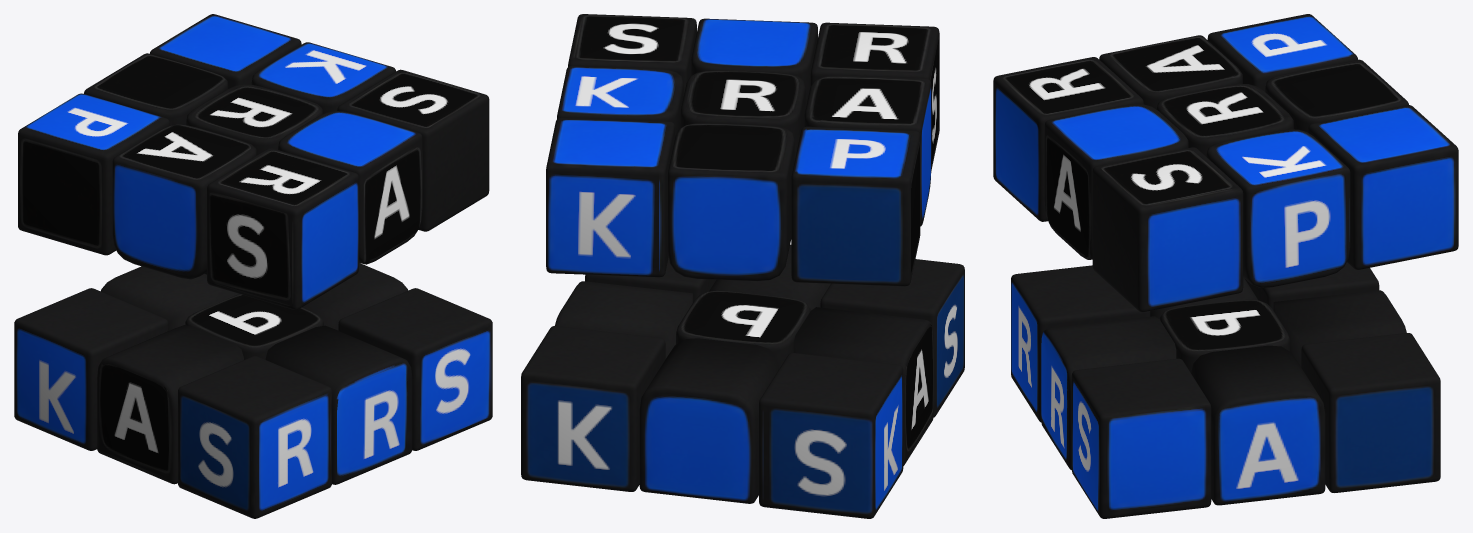
File: rubic_1.glb
The picture shows the model from 3 angles, left to right: view 1: azimuth 30°, elevation 25°; view 2: azimuth 150°, elevation 25°; view 3: azimuth 270°, elevation 25°; orthographic projection. The views are drawn at different scales.
Visible parts, largest first — view 1: Cuadrado_low004__0, Cuadrado_low007__0, Cuadrado_low012__0, Esquina_low015__0, Cuadrado_low011, Cuadrado_low006__0, Esquina_low016__0, Esquina_low008__0, Cuadrado_low008__0, Esquina_low007__0, Cuadrado_low010__0, Esquina_low018__0 (+5 smaller); view 2: Cuadrado_low011, Cuadrado_low012__0, Cuadrado_low009, Cuadrado_low010__0, Esquina_low018__0, Esquina_low019, Esquina_low016__0, Cuadrado_low004__0, Esquina_low015__0, Cuadrado_low007__0, Redondo_low003__0, Cuadrado_low008__0 (+6 smaller); view 3: Cuadrado_low008__0, Cuadrado_low006__0, Cuadrado_low009, Esquina_low013__0, Cuadrado_low010__0, Esquina_low012__0, Cuadrado_low007__0, Esquina_low007__0, Cuadrado_low004__0, Esquina_low008__0, Cuadrado_low012__0, Esquina_low015__0 (+6 smaller).
Boxes of the visible parts, bbox=[...] form: Cuadrado_low004__0: bbox=[178, 356, 331, 518]; Cuadrado_low007__0: bbox=[207, 148, 358, 309]; Cuadrado_low012__0: bbox=[18, 93, 169, 255]; Esquina_low015__0: bbox=[112, 124, 256, 279]; Cuadrado_low011: bbox=[14, 288, 168, 450]; Cuadrado_low006__0: bbox=[338, 288, 492, 450]; Esquina_low016__0: bbox=[97, 325, 243, 484]; Esquina_low008__0: bbox=[265, 325, 412, 484]; Cuadrado_low008__0: bbox=[337, 69, 489, 231]; Esquina_low007__0: bbox=[278, 111, 422, 264]; Cuadrado_low010__0: bbox=[150, 14, 301, 88]; Esquina_low018__0: bbox=[84, 53, 228, 125]; Cuadrado_low011: bbox=[759, 353, 903, 518]; Cuadrado_low012__0: bbox=[791, 126, 920, 286]; Cuadrado_low009: bbox=[521, 326, 665, 491]; Cuadrado_low010__0: bbox=[546, 117, 674, 277]; Esquina_low018__0: bbox=[668, 123, 794, 281]; Esquina_low019: bbox=[639, 338, 778, 503]; Esquina_low016__0: bbox=[793, 307, 933, 465]; Cuadrado_low004__0: bbox=[820, 259, 964, 417]; Esquina_low015__0: bbox=[804, 75, 931, 226]; Cuadrado_low007__0: bbox=[810, 22, 939, 170]; Redondo_low003__0: bbox=[680, 70, 805, 160]; Cuadrado_low008__0: bbox=[568, 14, 696, 95]; Cuadrado_low008__0: bbox=[1092, 147, 1243, 312]; Cuadrado_low006__0: bbox=[1071, 358, 1211, 518]; Cuadrado_low009: bbox=[1301, 333, 1440, 492]; Esquina_low013__0: bbox=[1191, 345, 1325, 505]; Cuadrado_low010__0: bbox=[1308, 105, 1458, 269]; Esquina_low012__0: bbox=[1206, 129, 1350, 287]; Cuadrado_low007__0: bbox=[993, 57, 1143, 221]; Esquina_low007__0: bbox=[1044, 104, 1188, 259]; Cuadrado_low004__0: bbox=[1011, 265, 1150, 422]; Esquina_low008__0: bbox=[1041, 316, 1176, 469]; Cuadrado_low012__0: bbox=[1207, 14, 1357, 91]; Esquina_low015__0: bbox=[1099, 35, 1242, 109].
Size of the model in its own units: 7.89 by 5.98 by 7.88.
Materials: 1 (1 with a texture image).
